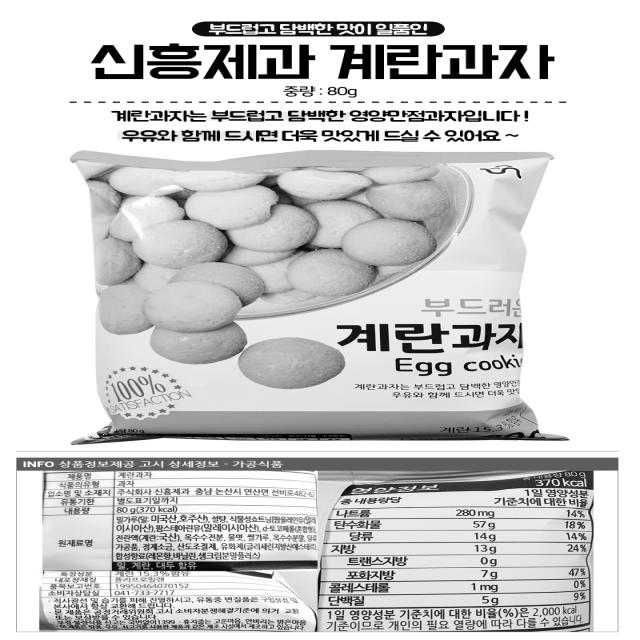Nutrition Label: (320, 470, 603, 611)
